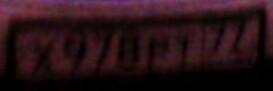license-plateSW: (9, 11, 263, 78)
